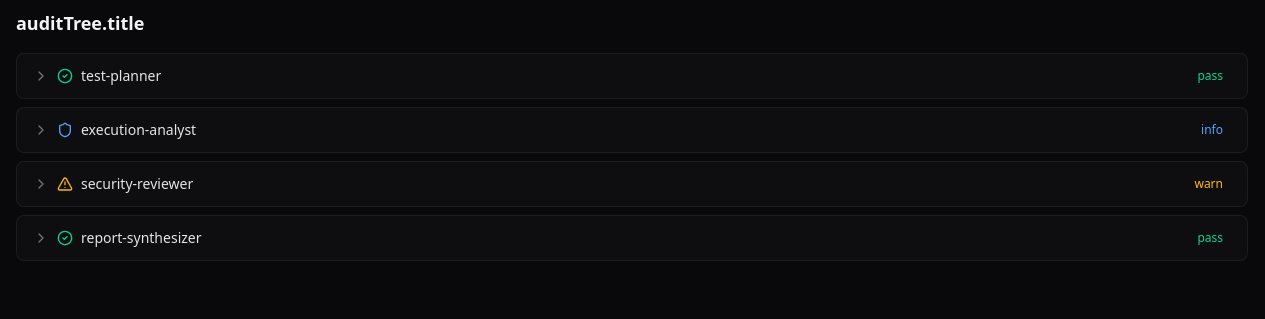
Scenario: AuditTreeView › expands node when clicked
Click the text "test-planner" at (121, 76), box top-left (81, 66), bottom-right (161, 86)
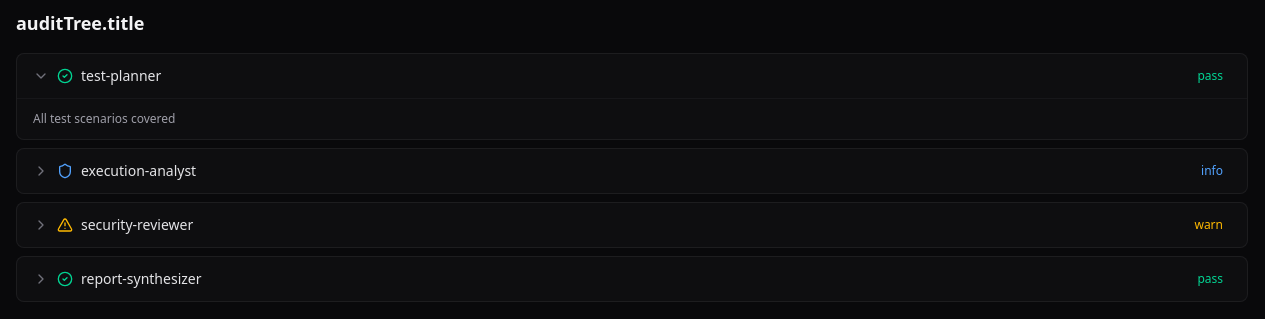
Expected: the text "All test scenarios covered" is shown, top-left (33, 110), bottom-right (175, 127)
